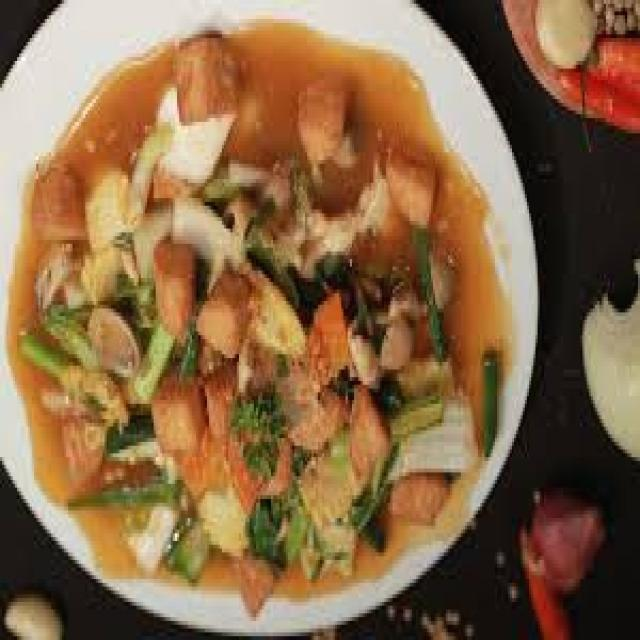capcay: (0, 19, 525, 625)
